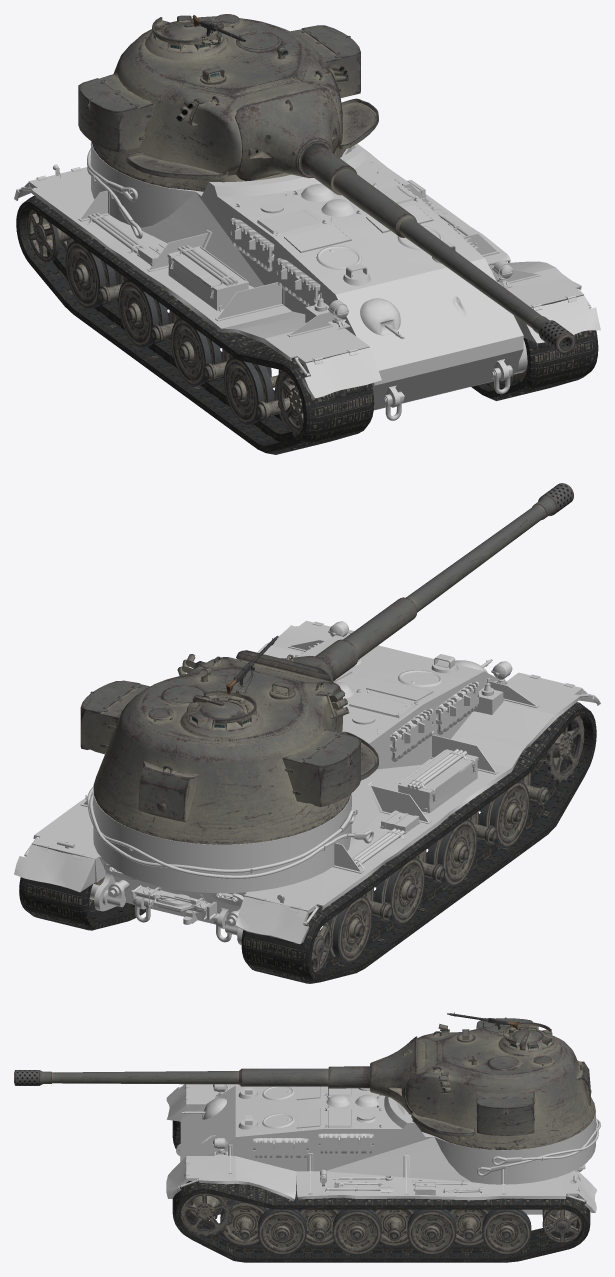
The model's file is Pz.Kpfw. VII.fbx.
3 renders of one model, top to bottom at view 1: azimuth 30°, elevation 25°; view 2: azimuth 150°, elevation 25°; view 3: azimuth 270°, elevation 25°, orthographic. The views are drawn at different scales.
Parts seen in each view (by area): view 1: german\G134_PzKpfw_VII\normal\l\Hull.pri~10~5, german\G134_PzKpfw_VII\normal\l\Turret_01.pri~10~6, german\G134_PzKpfw_VII\normal\l\Chassis.pri~10~4, german\G134_PzKpfw_VII\normal\l\Gun_02.pri~10~7, german\G134_PzKpfw_VII\normal\l\Chassis.pri~10~2, german\G134_PzKpfw_VII\normal\l\Chassis.pri~10~3; view 2: german\G134_PzKpfw_VII\normal\l\Hull.pri~10~5, german\G134_PzKpfw_VII\normal\l\Turret_01.pri~10~6, german\G134_PzKpfw_VII\normal\l\Chassis.pri~10~4, german\G134_PzKpfw_VII\normal\l\Chassis.pri~10~2, german\G134_PzKpfw_VII\normal\l\Gun_02.pri~10~7, german\G134_PzKpfw_VII\normal\l\Chassis.pri~10~3; view 3: german\G134_PzKpfw_VII\normal\l\Hull.pri~10~5, german\G134_PzKpfw_VII\normal\l\Turret_01.pri~10~6, german\G134_PzKpfw_VII\normal\l\Chassis.pri~10~1, german\G134_PzKpfw_VII\normal\l\Chassis.pri~10~3, german\G134_PzKpfw_VII\normal\l\Gun_02.pri~10~7.
Boxes of the visible parts, x1=… form: german\G134_PzKpfw_VII\normal\l\Hull.pri~10~5: x1=14, y1=141, x2=600, y2=420; german\G134_PzKpfw_VII\normal\l\Turret_01.pri~10~6: x1=78, y1=14, x2=378, y2=191; german\G134_PzKpfw_VII\normal\l\Chassis.pri~10~4: x1=16, y1=195, x2=374, y2=454; german\G134_PzKpfw_VII\normal\l\Gun_02.pri~10~7: x1=234, y1=87, x2=575, y2=353; german\G134_PzKpfw_VII\normal\l\Chassis.pri~10~2: x1=27, y1=209, x2=303, y2=437; german\G134_PzKpfw_VII\normal\l\Chassis.pri~10~3: x1=471, y1=264, x2=598, y2=400; german\G134_PzKpfw_VII\normal\l\Hull.pri~10~5: x1=14, y1=620, x2=600, y2=945; german\G134_PzKpfw_VII\normal\l\Turret_01.pri~10~6: x1=80, y1=635, x2=378, y2=844; german\G134_PzKpfw_VII\normal\l\Chassis.pri~10~4: x1=241, y1=702, x2=596, y2=983; german\G134_PzKpfw_VII\normal\l\Chassis.pri~10~2: x1=311, y1=715, x2=584, y2=973; german\G134_PzKpfw_VII\normal\l\Gun_02.pri~10~7: x1=236, y1=483, x2=573, y2=682; german\G134_PzKpfw_VII\normal\l\Chassis.pri~10~3: x1=19, y1=845, x2=145, y2=930; german\G134_PzKpfw_VII\normal\l\Hull.pri~10~5: x1=166, y1=1084, x2=600, y2=1214; german\G134_PzKpfw_VII\normal\l\Turret_01.pri~10~6: x1=405, y1=1012, x2=595, y2=1149; german\G134_PzKpfw_VII\normal\l\Chassis.pri~10~1: x1=180, y1=1193, x2=582, y2=1255; german\G134_PzKpfw_VII\normal\l\Chassis.pri~10~3: x1=172, y1=1181, x2=590, y2=1262; german\G134_PzKpfw_VII\normal\l\Gun_02.pri~10~7: x1=14, y1=1036, x2=417, y2=1114.
Size of the model in its own units: 3.94 by 3.56 by 9.6.
